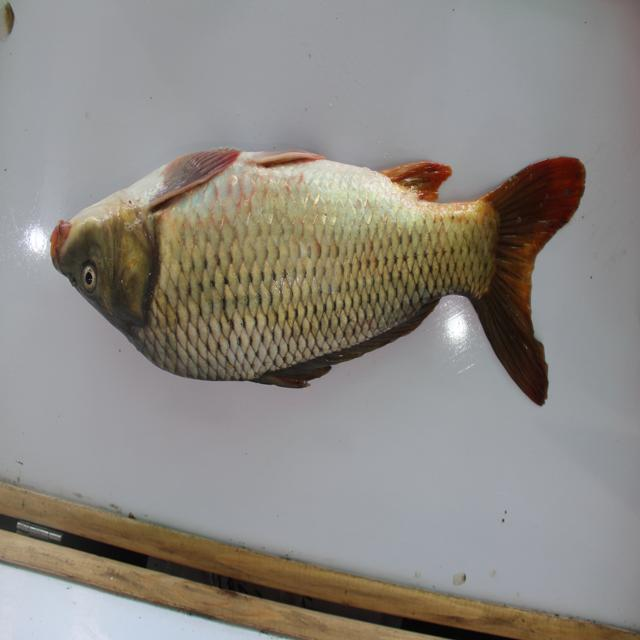CommonCarp: (46, 136, 598, 420)
